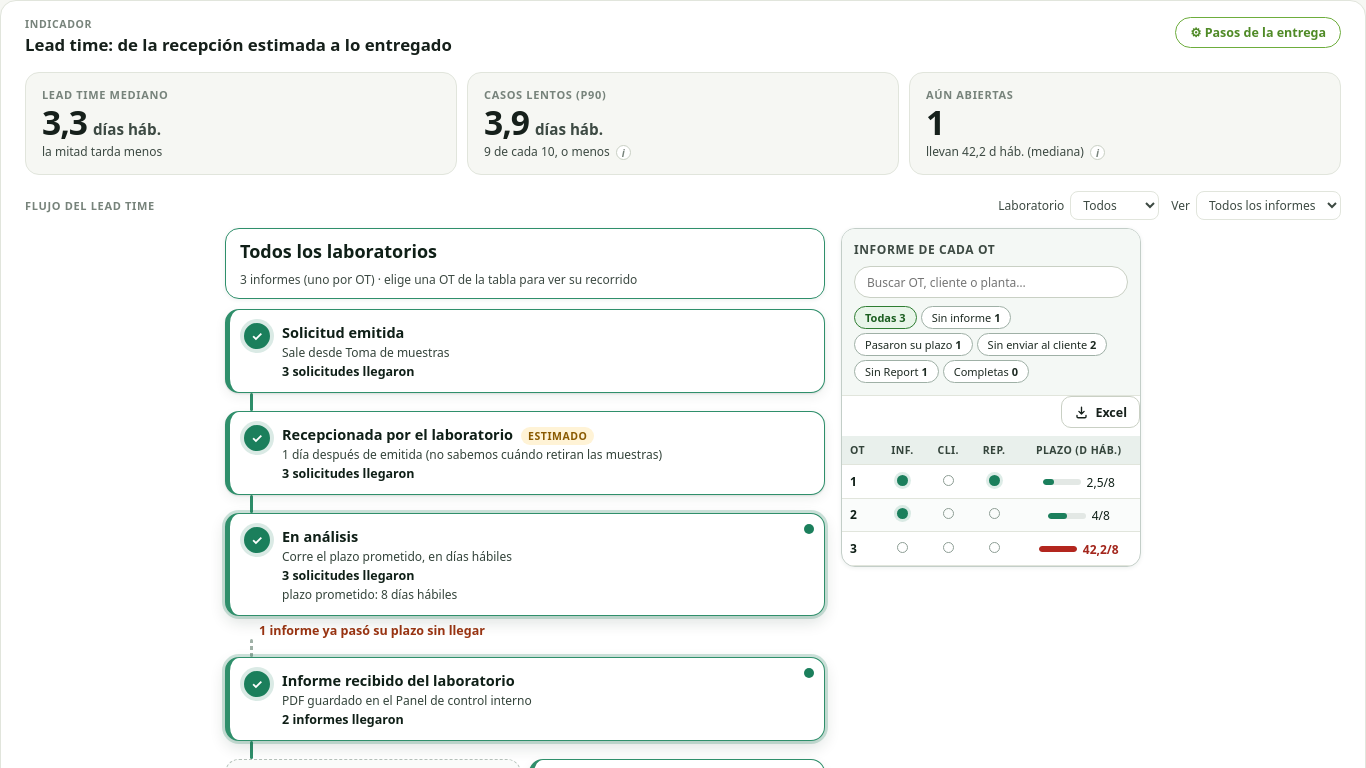
Test: IndicadoresEntrega › el botón «Pasos de la entrega» es solo del administrador y abre los plazos
Click the button "⚙ Pasos de la entrega": x=1258, y=32 [1175, 17, 1341, 48]
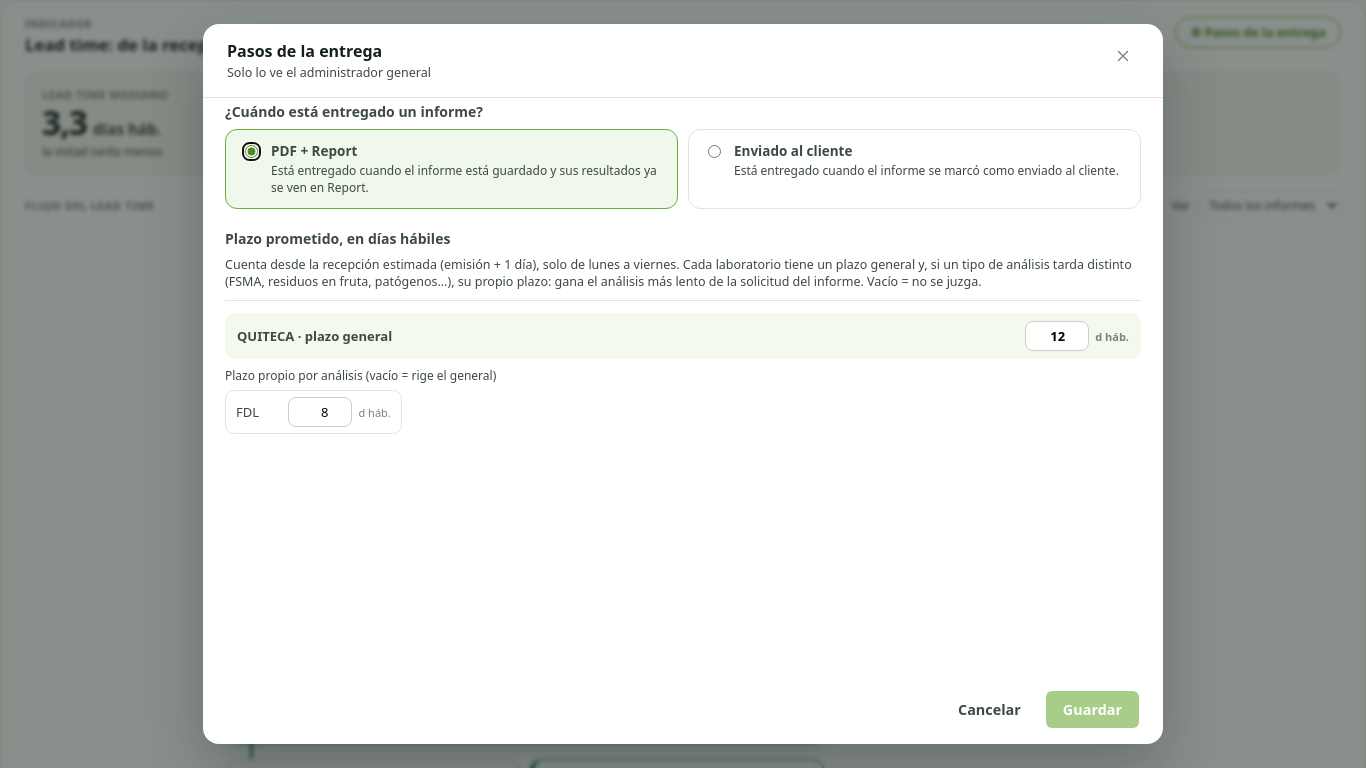
Result: the heading "¿Cuándo está entregado un informe?" is shown at [225, 102, 483, 121]
Result: the number field labelled "QUITECA · plazo general d háb." is shown at [1025, 321, 1089, 351]
Result: the number field labelled "FDL d háb." holds "8" at [288, 397, 352, 427]
